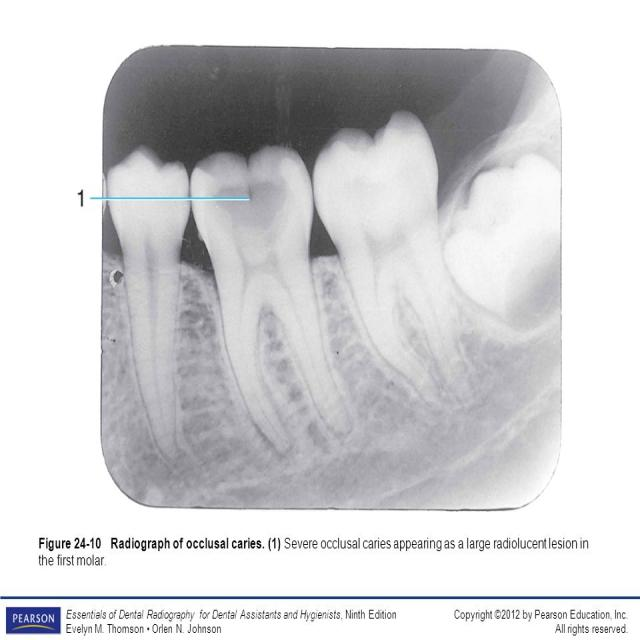Caries: (192, 143, 314, 455)
